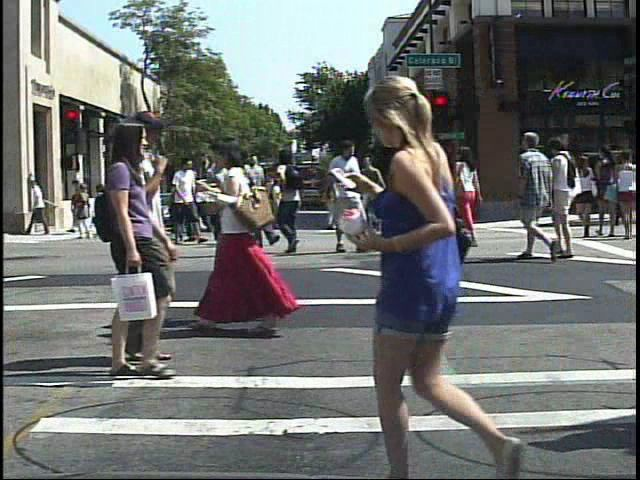person: (348, 68, 557, 480), (89, 107, 171, 374), (193, 135, 290, 338), (137, 109, 194, 371), (231, 132, 275, 334), (403, 134, 452, 262), (512, 127, 558, 263), (546, 132, 594, 262), (233, 138, 276, 261), (449, 144, 493, 255), (274, 150, 316, 258), (238, 149, 279, 248), (202, 153, 239, 250), (335, 139, 364, 256), (171, 156, 210, 243), (569, 148, 602, 242), (147, 173, 167, 242), (70, 182, 90, 232)
